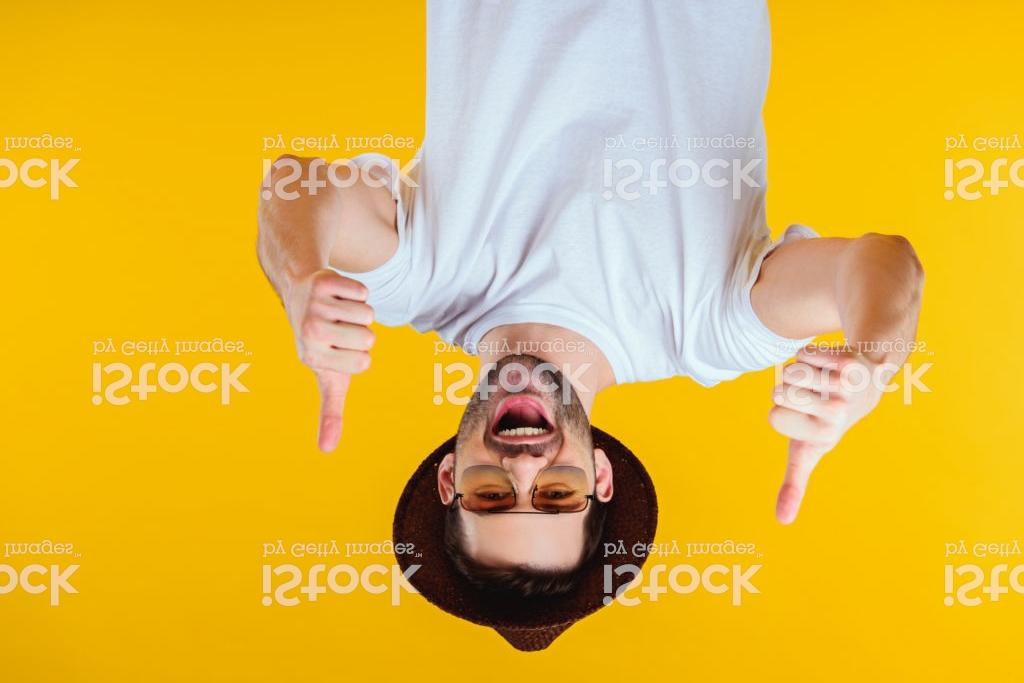thumbsdown: (765, 338, 873, 528), (293, 269, 377, 457)
